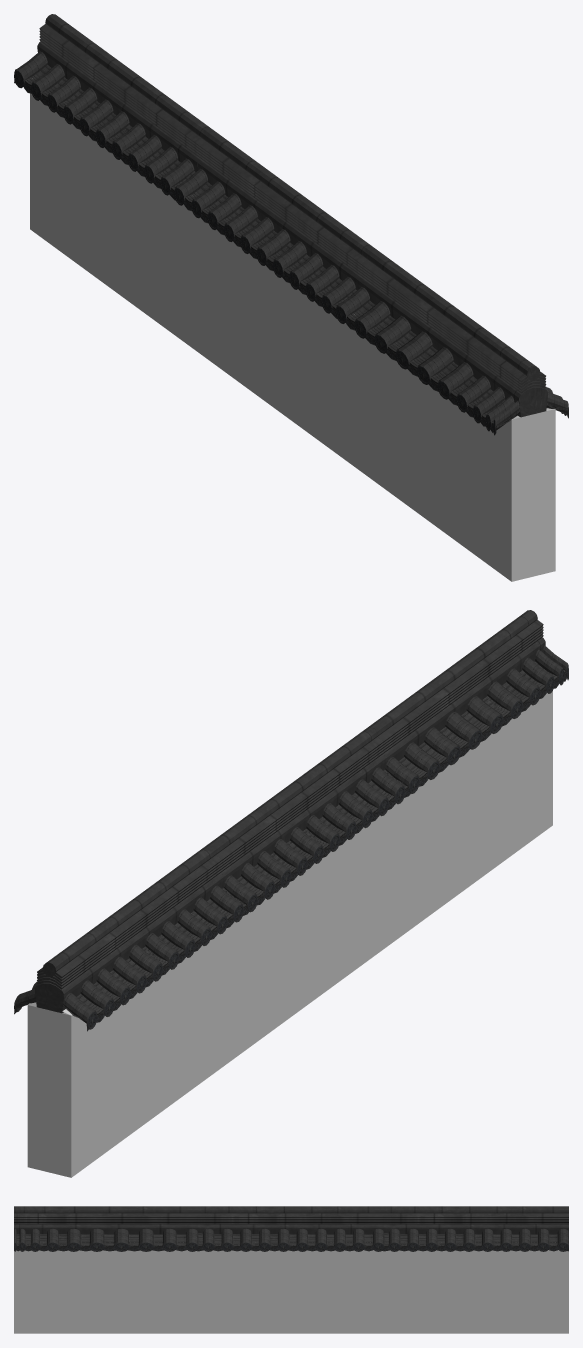
The model's file is SM_JSH_HG_StoneWallH_Splines_81.fbx.
3 renders of one model, top to bottom at view 1: azimuth 30°, elevation 25°; view 2: azimuth 150°, elevation 25°; view 3: azimuth 270°, elevation 25°, orthographic. The views are drawn at different scales.
Parts seen in each view (by area): view 1: SM_JSH_HG_StoneWallH_Splines_81; view 2: SM_JSH_HG_StoneWallH_Splines_81; view 3: SM_JSH_HG_StoneWallH_Splines_81.
Part boxes in pixels (<box>): SM_JSH_HG_StoneWallH_Splines_81: <box>14,14,568,581</box>; SM_JSH_HG_StoneWallH_Splines_81: <box>14,610,568,1177</box>; SM_JSH_HG_StoneWallH_Splines_81: <box>14,1206,568,1333</box>.
Size of the model in its own units: 65.49 by 741 by 178.
